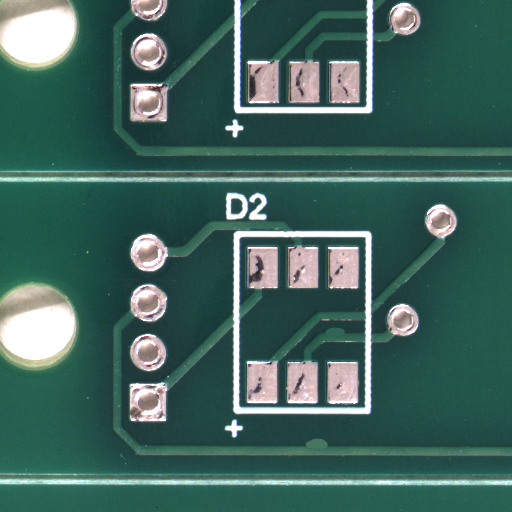Spur: (314, 443, 343, 457), (334, 331, 361, 342)
